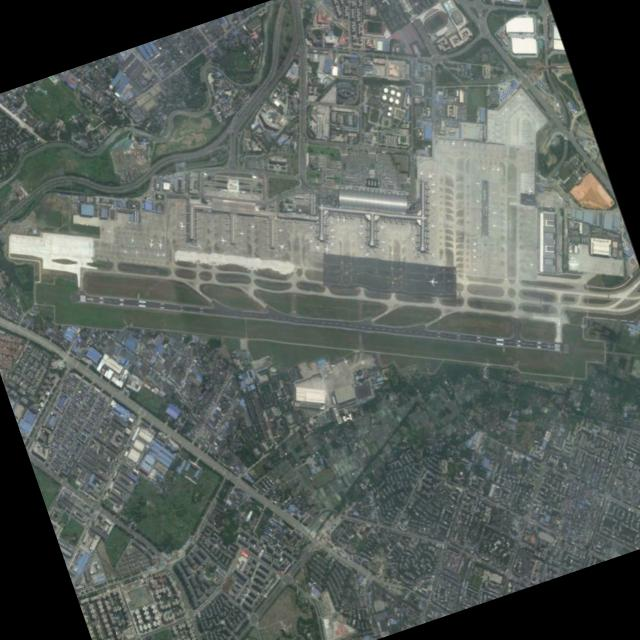storage-tank: (380, 92, 388, 100), (394, 89, 402, 96), (382, 85, 389, 92), (389, 87, 396, 93), (387, 95, 394, 101), (393, 97, 399, 103), (386, 104, 392, 110), (386, 109, 392, 115)
